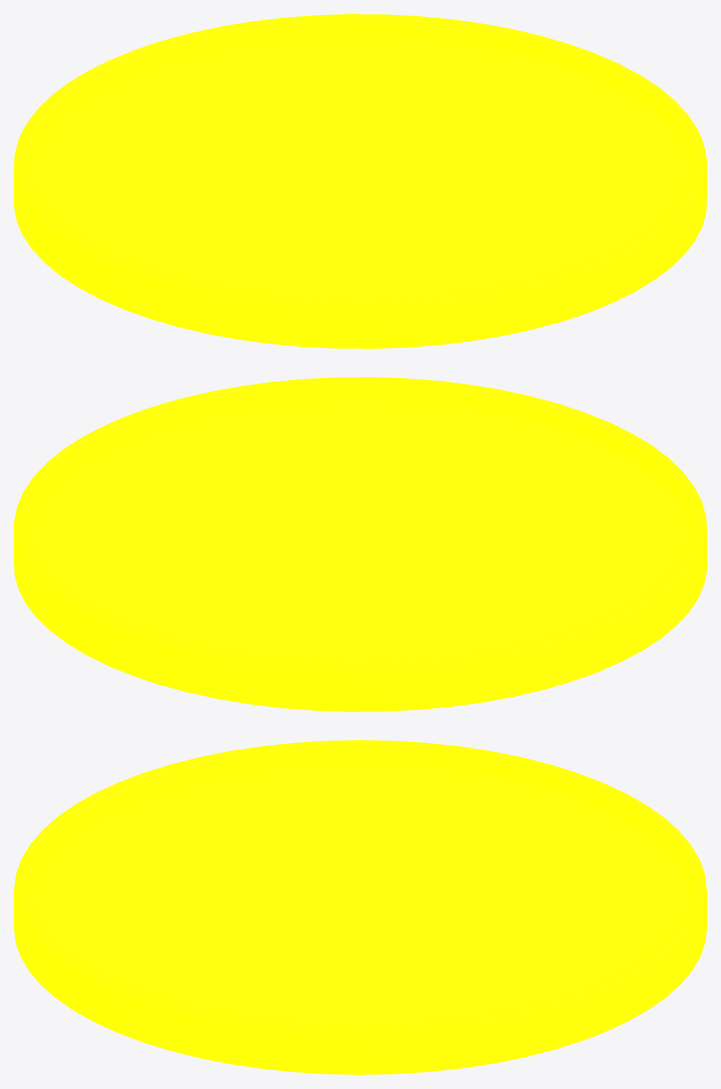
Rendered from Launchpad.fbx.
The picture shows the model from 3 angles, top to bottom: view 1: azimuth 30°, elevation 25°; view 2: azimuth 150°, elevation 25°; view 3: azimuth 270°, elevation 25°; orthographic projection.
Visible parts, largest first — view 1: LaunchPad; view 2: LaunchPad; view 3: LaunchPad.
Part boxes in pixels (x1,y1,x2,y2): LaunchPad: (14,14,706,348); LaunchPad: (14,377,706,711); LaunchPad: (14,740,706,1074).
Bounding box in the file's own units: 2 × 0.1413 × 2.
